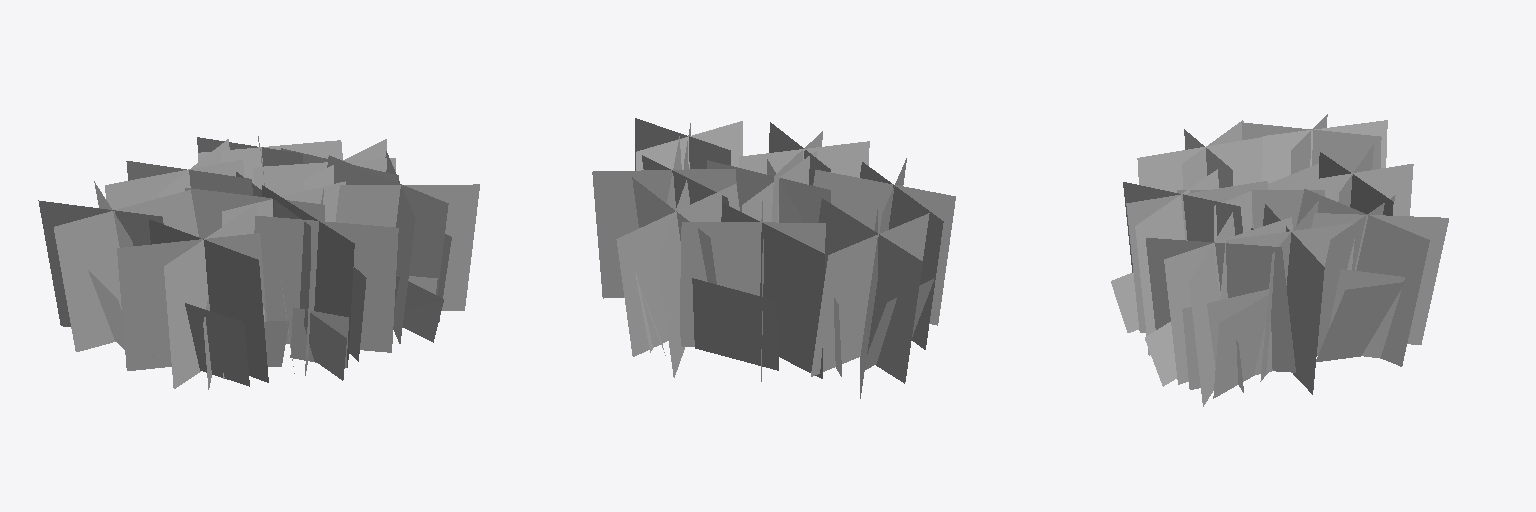
Rendered from prop_grass_dry_03.obj.
3 views of the same model, side by side, from view 1: azimuth 30°, elevation 25°; view 2: azimuth 150°, elevation 25°; view 3: azimuth 270°, elevation 25° (orthographic).
Bounding box in the file's own units: 5.67 × 2.35 × 4.65.